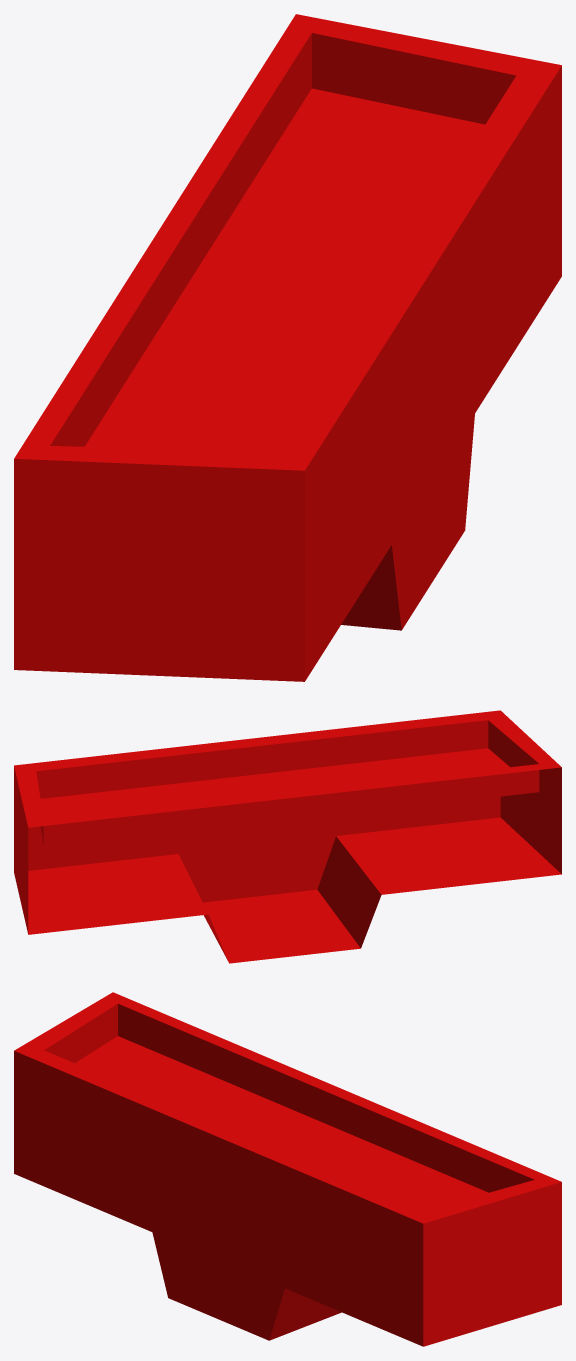
Rendered from L_Torch_Top.fbx.
3 views of the same model, one above another, from view 1: azimuth 30°, elevation 25°; view 2: azimuth 150°, elevation 25°; view 3: azimuth 270°, elevation 25° (orthographic). The views are drawn at different scales.
Visible parts, largest first — view 1: Torch_1; view 2: Torch_1; view 3: Torch_1.
Part boxes in pixels (x1,y1,x2,y2): Torch_1: (14,14,561,681); Torch_1: (14,710,561,963); Torch_1: (14,992,561,1346).
Bounding box in the file's own units: 0.0129 × 0.00472 × 0.0129.
